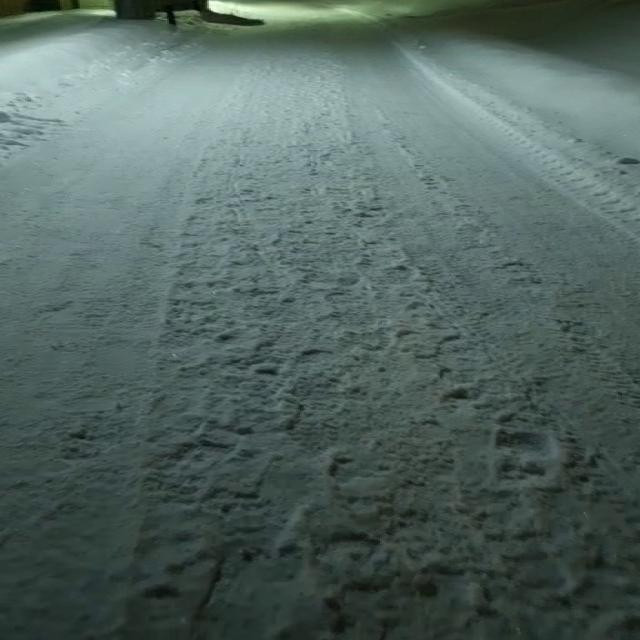path: (0, 0, 640, 640)
